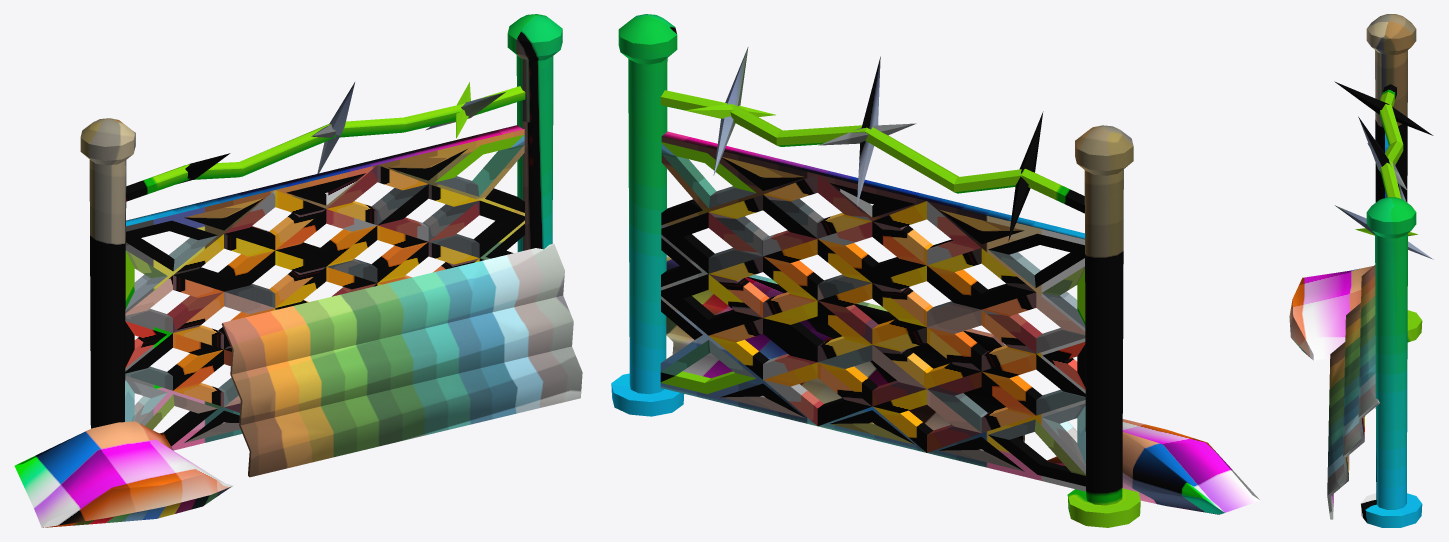
Rendered from Fence_1.FBX.
3 renders of one model, left to right at view 1: azimuth 30°, elevation 25°; view 2: azimuth 150°, elevation 25°; view 3: azimuth 270°, elevation 25°, orthographic. The views are drawn at different scales.
Parts seen in each view (by area): view 1: Fence_1; view 2: Fence_1; view 3: Fence_1.
Part boxes in pixels (box(x1,y1,x2,y2)): Fence_1: box(14, 14, 582, 527); Fence_1: box(611, 14, 1260, 527); Fence_1: box(1289, 14, 1433, 527).
Size of the model in its own units: 194 by 119 by 49.26.
1 material, 1 textured.
